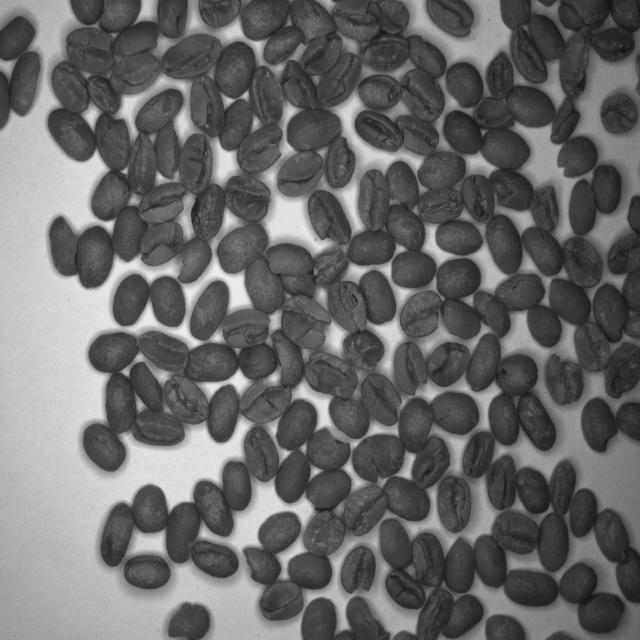bad: (280, 293, 332, 351), (307, 186, 353, 249), (159, 33, 223, 77), (305, 348, 358, 400), (315, 51, 363, 108), (74, 224, 116, 289), (233, 123, 286, 174), (400, 66, 446, 124), (351, 434, 406, 482), (508, 24, 550, 86), (162, 372, 210, 426), (276, 148, 325, 200), (224, 174, 273, 226), (63, 26, 116, 74), (178, 128, 215, 196), (429, 387, 480, 436), (238, 378, 292, 424), (188, 74, 226, 138), (93, 109, 131, 173), (359, 373, 403, 428), (166, 498, 202, 565), (130, 403, 186, 446), (603, 336, 640, 401), (490, 507, 540, 555), (189, 183, 227, 246), (426, 338, 472, 390), (342, 486, 388, 538), (486, 163, 534, 212), (326, 279, 368, 335), (543, 351, 585, 407), (9, 50, 43, 119), (287, 0, 339, 45), (352, 109, 404, 154), (279, 58, 321, 113), (592, 283, 629, 345), (581, 394, 618, 456), (594, 504, 631, 565), (302, 510, 347, 560), (576, 592, 627, 636), (110, 204, 148, 263), (408, 530, 446, 589), (137, 328, 189, 371), (562, 237, 604, 290), (493, 272, 546, 314), (472, 286, 513, 340), (344, 593, 391, 640), (332, 0, 380, 46), (270, 326, 305, 389), (183, 342, 238, 382), (435, 472, 471, 533), (411, 434, 450, 490), (442, 535, 479, 594), (249, 64, 284, 126), (89, 170, 132, 220), (222, 306, 272, 349), (243, 426, 280, 484), (415, 150, 467, 191), (358, 167, 390, 233), (112, 52, 162, 94), (558, 31, 588, 100), (51, 62, 90, 115), (361, 31, 410, 73), (304, 470, 353, 512), (242, 539, 284, 588), (423, 0, 474, 40), (136, 182, 187, 222), (139, 220, 184, 265), (554, 132, 598, 178), (396, 112, 440, 158), (308, 425, 352, 471), (399, 291, 442, 338), (166, 598, 214, 640), (128, 360, 166, 413), (128, 130, 158, 197), (573, 323, 613, 373), (416, 586, 453, 640), (394, 339, 429, 396), (486, 451, 519, 511), (460, 173, 497, 226), (324, 133, 357, 192), (340, 544, 377, 596), (50, 214, 80, 278), (257, 580, 305, 620), (264, 240, 314, 278), (591, 24, 636, 66), (439, 297, 481, 342), (599, 90, 638, 138), (384, 158, 419, 211), (176, 234, 213, 284), (384, 566, 426, 610), (407, 32, 447, 78), (364, 0, 411, 39), (342, 329, 385, 371), (299, 34, 343, 75), (261, 24, 305, 65), (494, 354, 538, 395), (547, 456, 577, 516), (153, 119, 182, 180), (459, 430, 495, 478), (357, 72, 401, 111), (557, 0, 610, 32), (417, 187, 463, 223), (529, 182, 560, 235), (473, 95, 515, 133), (113, 20, 158, 55), (615, 542, 640, 604), (86, 72, 120, 116), (487, 49, 516, 100), (551, 96, 580, 146), (312, 247, 348, 287), (605, 234, 640, 275), (98, 0, 141, 32), (196, 0, 242, 29), (155, 1, 191, 38)
good: (45, 106, 97, 162), (216, 222, 271, 272), (192, 479, 237, 539), (287, 108, 344, 153), (189, 278, 229, 342), (381, 474, 432, 524), (517, 390, 558, 452), (214, 39, 256, 99), (501, 564, 558, 608), (546, 276, 592, 329), (82, 421, 127, 475), (274, 397, 318, 452), (100, 501, 135, 569), (486, 214, 524, 276), (112, 271, 151, 330), (465, 330, 502, 392), (243, 259, 284, 314), (507, 84, 557, 129), (480, 128, 530, 173), (134, 90, 185, 134), (88, 331, 140, 374), (205, 381, 241, 443), (358, 269, 397, 326), (130, 481, 170, 536), (216, 96, 254, 153), (522, 223, 562, 277), (398, 394, 434, 454), (536, 510, 570, 573), (149, 274, 187, 330), (273, 448, 311, 504), (526, 10, 566, 63), (441, 592, 485, 640), (104, 373, 138, 435), (239, 0, 291, 40), (327, 392, 372, 438), (384, 204, 426, 253), (190, 539, 240, 580), (433, 259, 482, 300), (379, 517, 415, 572), (557, 560, 600, 606), (442, 111, 484, 158), (445, 61, 485, 110), (435, 218, 484, 258), (474, 534, 508, 590), (390, 249, 437, 289), (285, 551, 334, 589), (256, 512, 302, 552), (488, 391, 520, 448), (514, 464, 550, 514), (220, 459, 253, 513), (568, 177, 597, 237), (591, 162, 623, 216), (123, 556, 172, 591), (300, 595, 338, 640), (348, 232, 396, 267), (526, 303, 562, 349), (0, 15, 37, 59), (237, 341, 278, 380), (569, 484, 597, 540), (484, 612, 529, 640), (614, 396, 640, 443), (279, 266, 317, 298), (68, 0, 105, 25), (498, 0, 531, 28), (0, 68, 13, 134)
